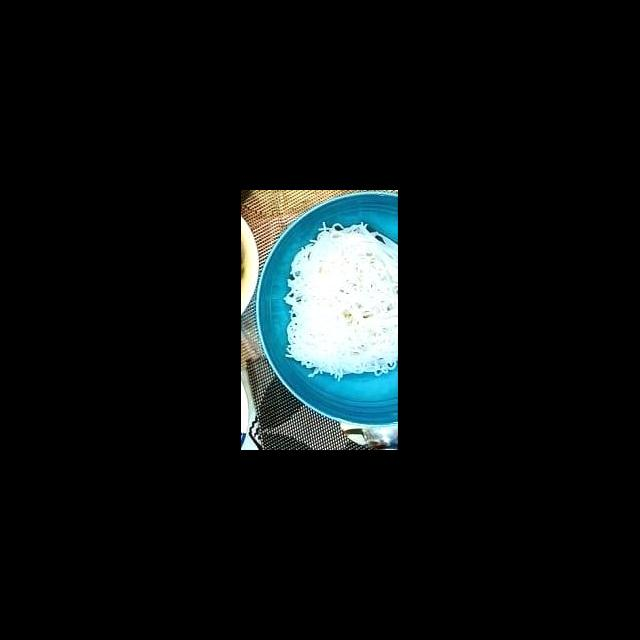bun: (276, 217, 398, 384)
